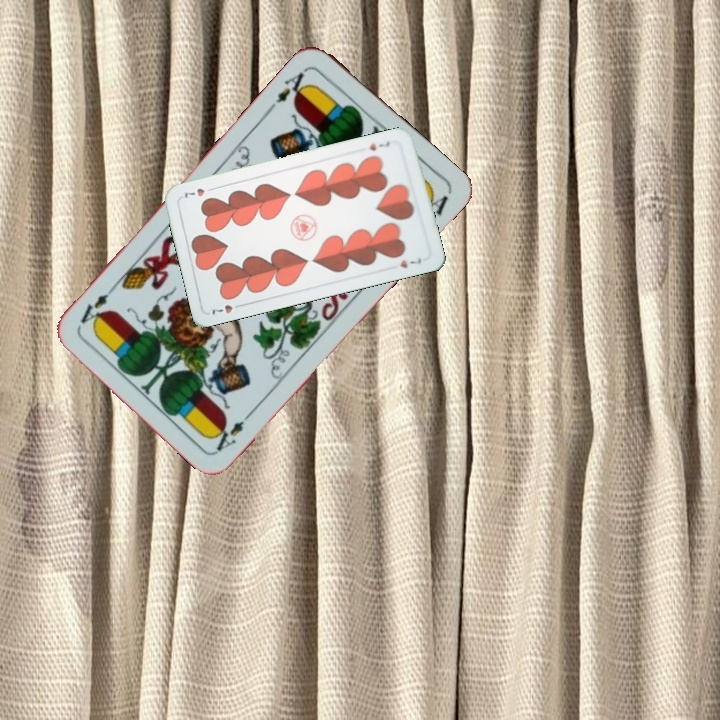EA: (265, 64, 313, 113), (211, 406, 256, 454)
H7: (208, 300, 246, 318), (366, 137, 392, 153)
